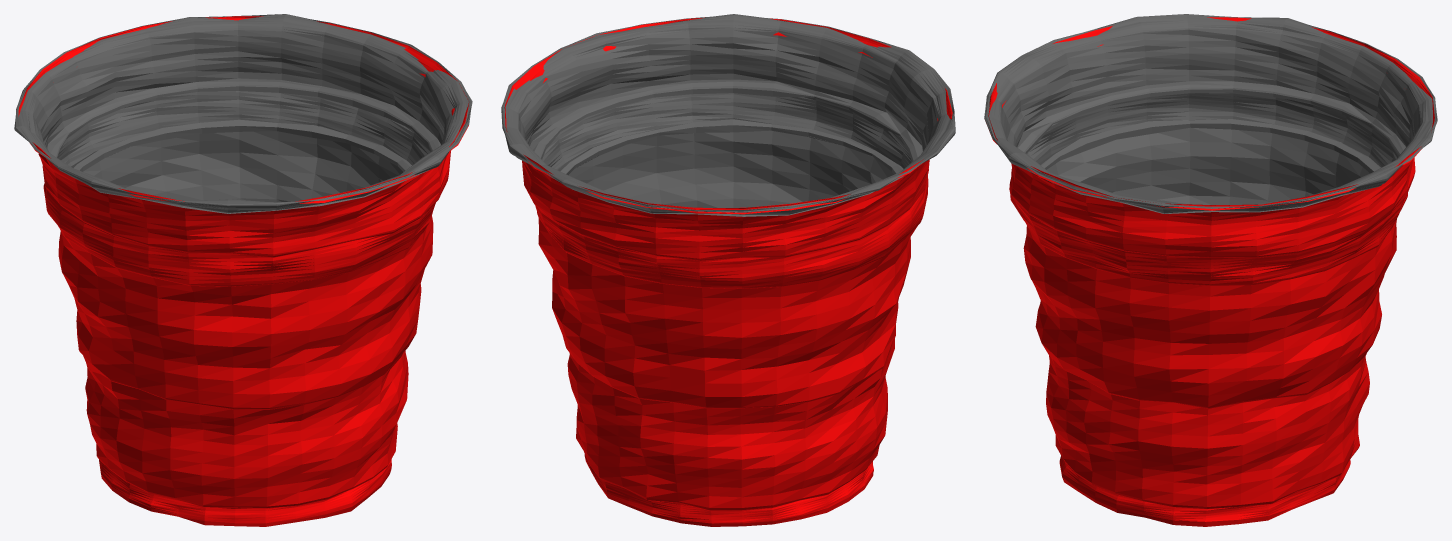
The model's file is crush_low_1.obj.
3 renders of one model, left to right at view 1: azimuth 30°, elevation 25°; view 2: azimuth 150°, elevation 25°; view 3: azimuth 270°, elevation 25°, orthographic.
Visible parts, largest first — view 1: model; view 2: model; view 3: model.
Boxes of the visible parts, left/top/right/bottom form: model: left=14, top=14, right=472, bottom=526; model: left=501, top=14, right=955, bottom=526; model: left=984, top=14, right=1437, bottom=526.
Size of the model in its own units: 0.094 by 0.0815 by 0.0936.
1 material, 1 textured.
